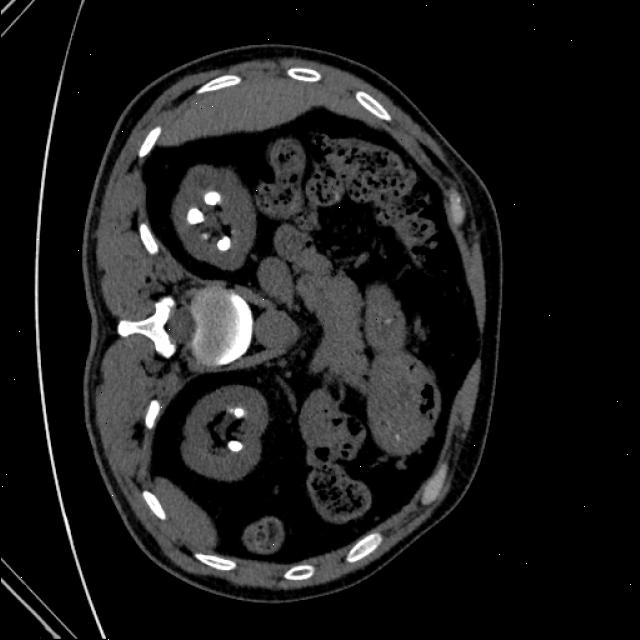kidneystone: (186, 208, 204, 225), (203, 191, 220, 205), (227, 440, 241, 452), (221, 236, 230, 250), (233, 408, 244, 418)
